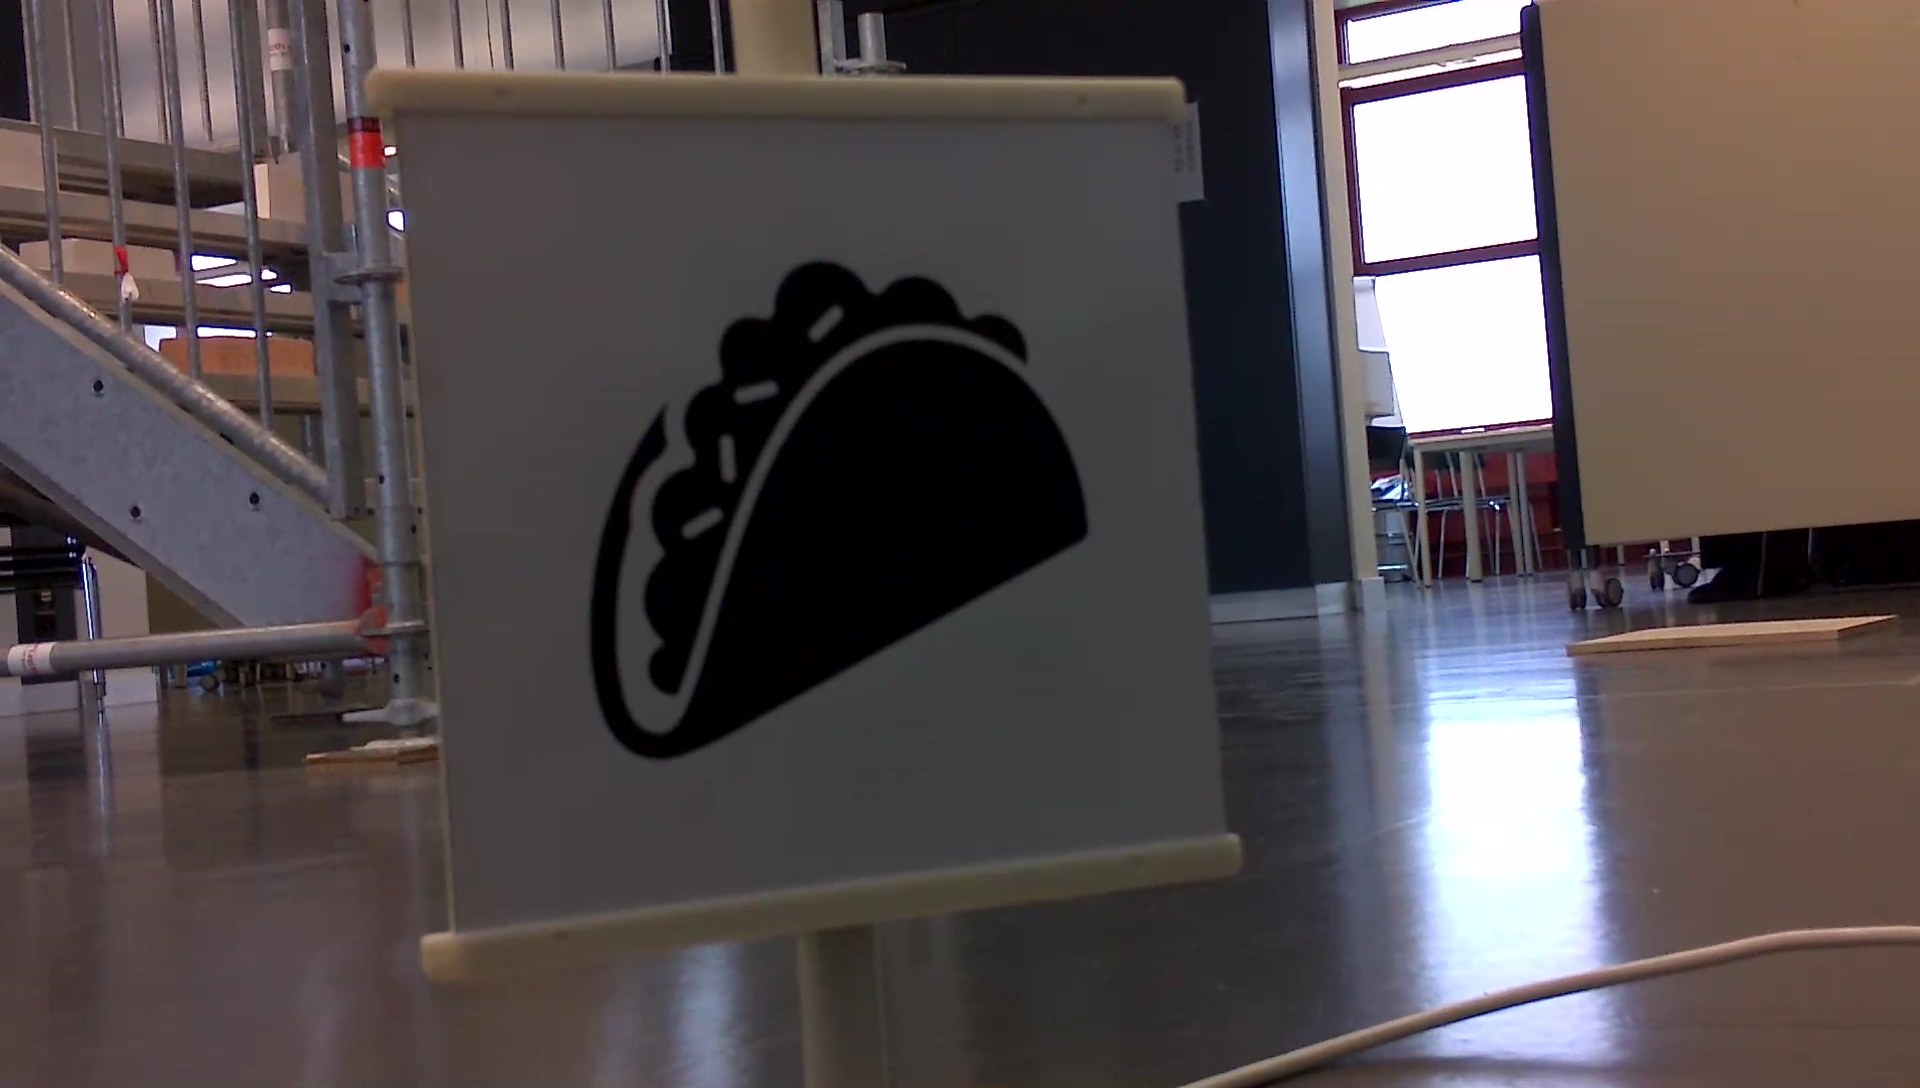taco: (578, 243, 1102, 775)
